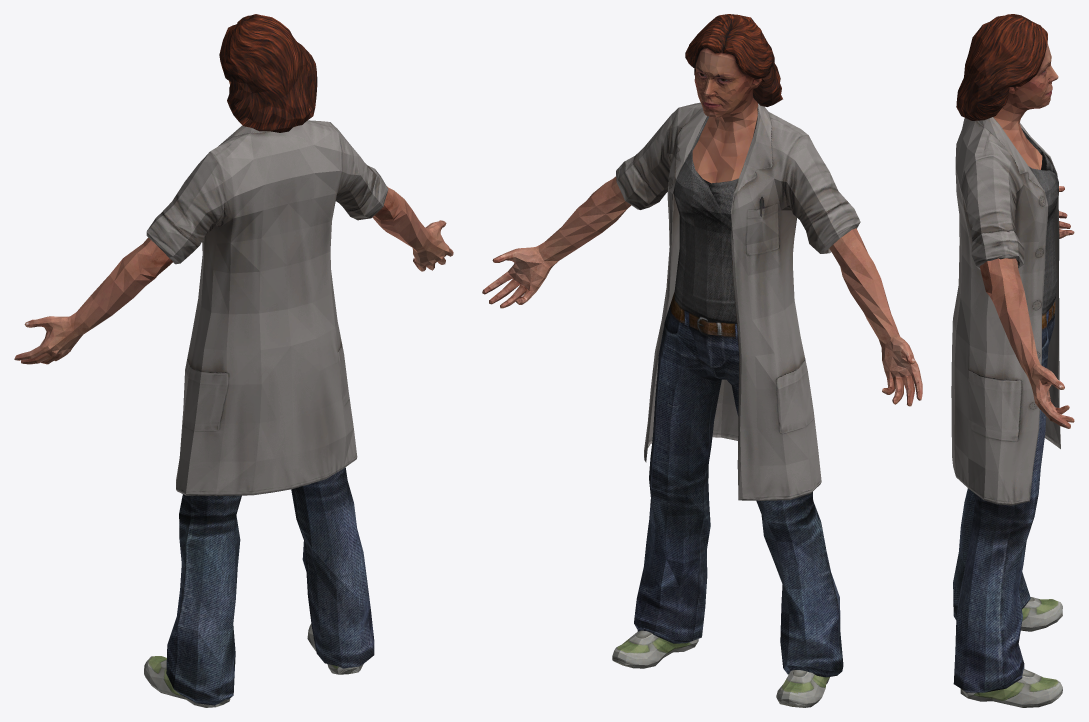
The model's file is Grace Agustine.obj.
The picture shows the model from 3 angles, left to right: view 1: azimuth 30°, elevation 25°; view 2: azimuth 150°, elevation 25°; view 3: azimuth 270°, elevation 25°; orthographic projection. The views are drawn at different scales.
Parts seen in each view (by area): view 1: grace_body_grace__gra, grace_head_grace__gra, 0-model-0-0_0-mod_0-m; view 2: grace_body_grace__gra, 0-model-0-0_0-mod_0-m, grace_head_grace_.001, grace_head_grace__gra; view 3: grace_body_grace__gra, grace_head_grace__gra, 0-model-0-0_0-mod_0-m, grace_head_grace_.001.
Part boxes in pixels (left/top/right/bottom): grace_body_grace__gra: left=144, top=120, right=388, bottom=707; grace_head_grace__gra: left=219, top=14, right=317, bottom=132; 0-model-0-0_0-mod_0-m: left=14, top=186, right=453, bottom=364; grace_body_grace__gra: left=612, top=102, right=860, bottom=707; 0-model-0-0_0-mod_0-m: left=482, top=176, right=922, bottom=406; grace_head_grace_.001: left=692, top=48, right=762, bottom=183; grace_head_grace__gra: left=685, top=14, right=782, bottom=106; grace_body_grace__gra: left=951, top=117, right=1062, bottom=707; grace_head_grace__gra: left=956, top=14, right=1047, bottom=120; 0-model-0-0_0-mod_0-m: left=979, top=186, right=1074, bottom=428; grace_head_grace_.001: left=993, top=43, right=1058, bottom=169.
Bounding box in the file's own units: 1.31 × 1.88 × 0.3251.
Materials: 6 (6 with a texture image).
